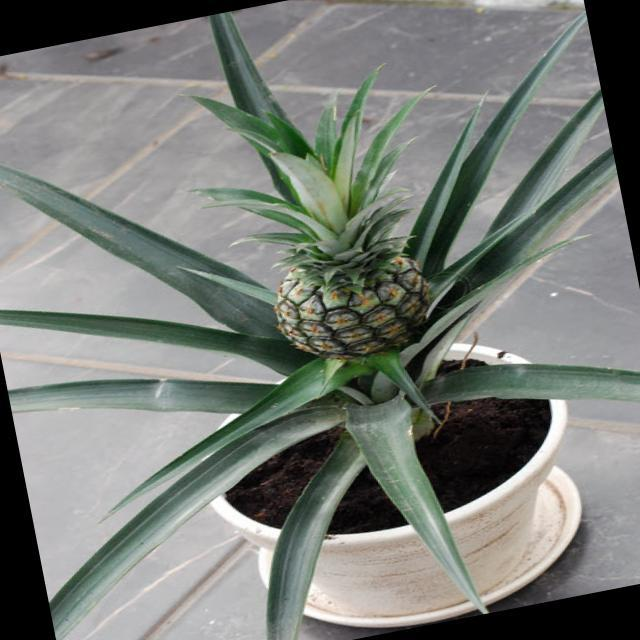PINEAPLE: (228, 137, 451, 376)
